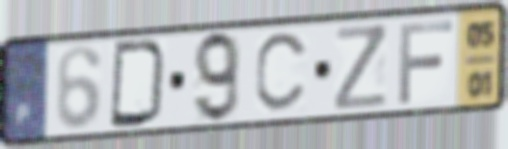6: (54, 43, 104, 133)
9: (192, 30, 243, 127)
C: (253, 29, 313, 116)
D: (107, 38, 171, 131)
F: (396, 17, 456, 107)
Z: (333, 20, 390, 113)
